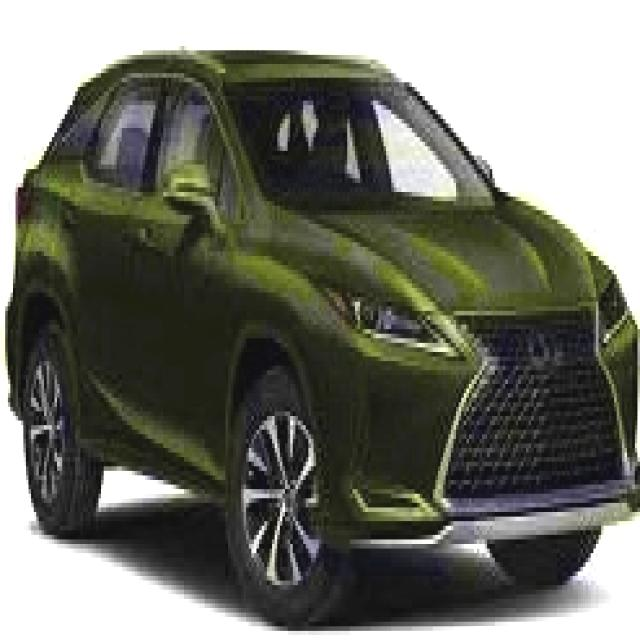green: (5, 50, 638, 631)
